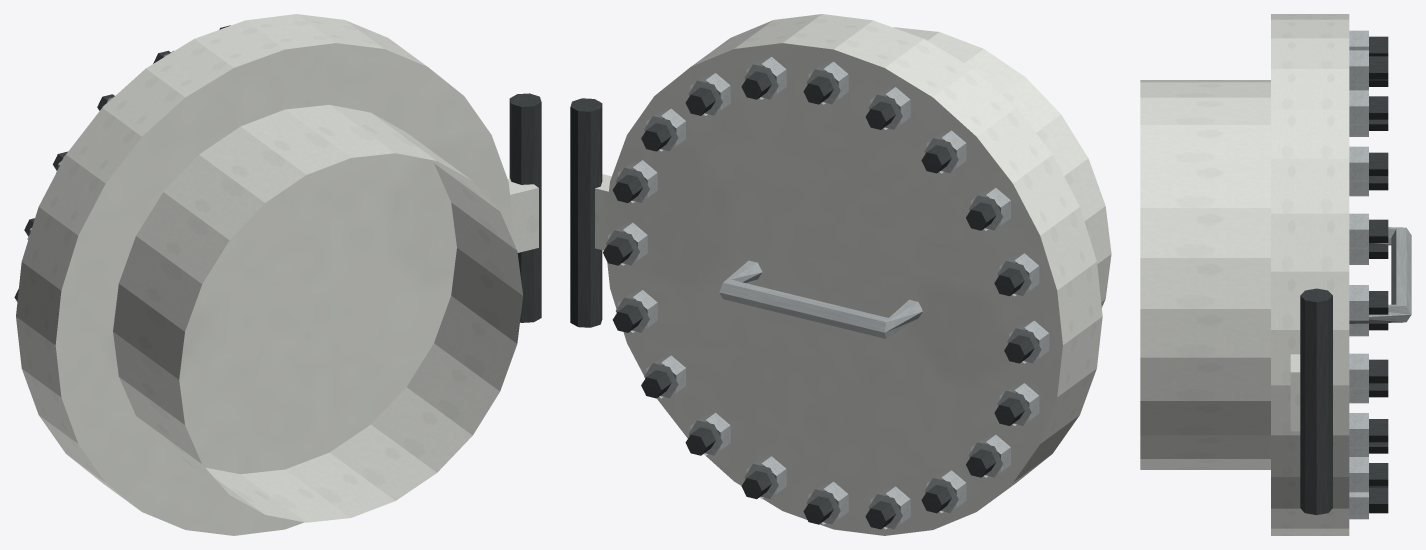
File: body.obj
3 renders of one model, left to right at view 1: azimuth 30°, elevation 25°; view 2: azimuth 150°, elevation 25°; view 3: azimuth 270°, elevation 25°, orthographic.
Size of the model in its own units: 0.885 by 0.8 by 0.4154.
